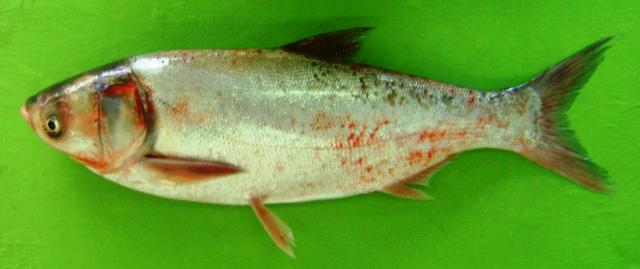Mulut: (10, 85, 48, 144)
Sirip Anal: (373, 129, 469, 215)
Sirip Dada: (140, 143, 244, 195)
Sirip Ekor: (510, 31, 626, 206)
Sirip Perut: (248, 180, 310, 266)
Sirip Punggung: (285, 17, 377, 81)
